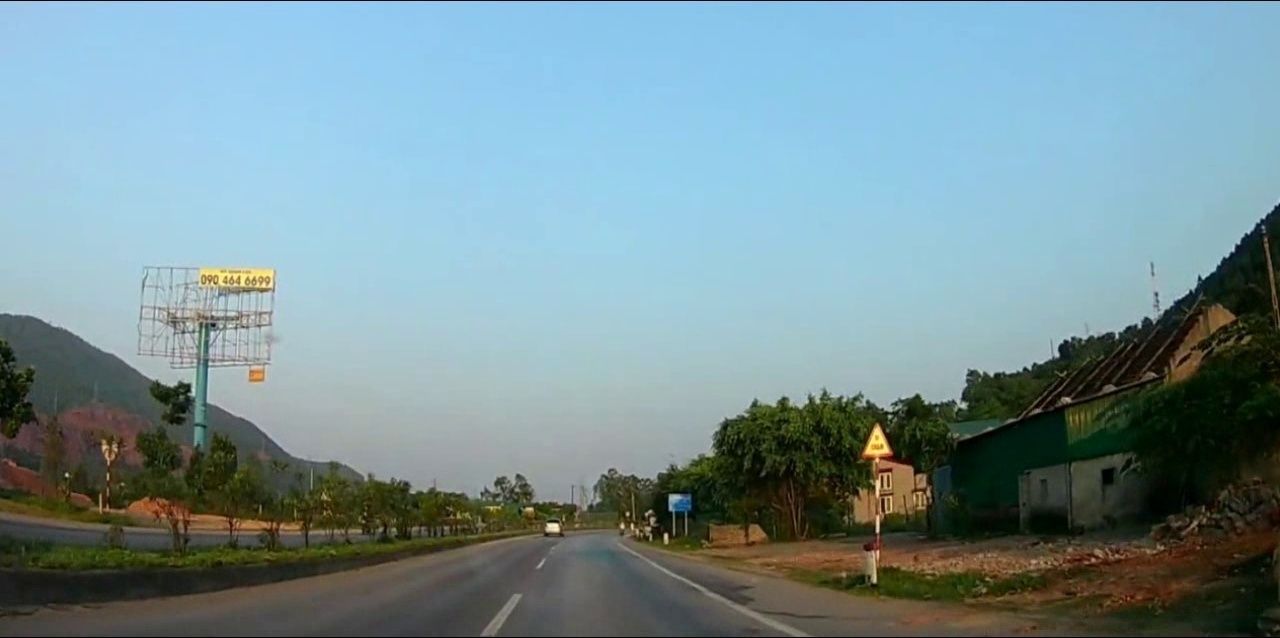Bien khac: (858, 422, 895, 460), (667, 492, 690, 512)
